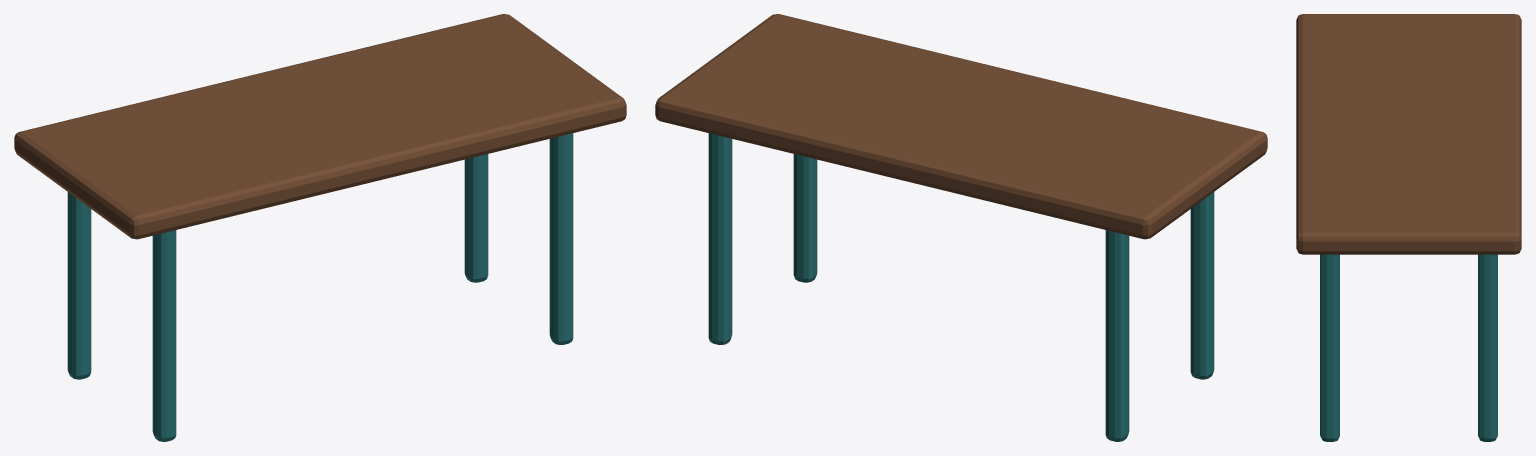
Rendered from dessert_table.glb.
3 renders of one model, left to right at view 1: azimuth 30°, elevation 25°; view 2: azimuth 150°, elevation 25°; view 3: azimuth 270°, elevation 25°, orthographic. The views are drawn at different scales.
Parts seen in each view (by area): view 1: dessert_table; view 2: dessert_table; view 3: dessert_table.
Part boxes in pixels (box(x1,y1,x2,y2)): dessert_table: box(14, 14, 626, 441); dessert_table: box(655, 14, 1267, 441); dessert_table: box(1296, 14, 1521, 441).
Bounding box in the file's own units: 2 × 0.945 × 0.85.
